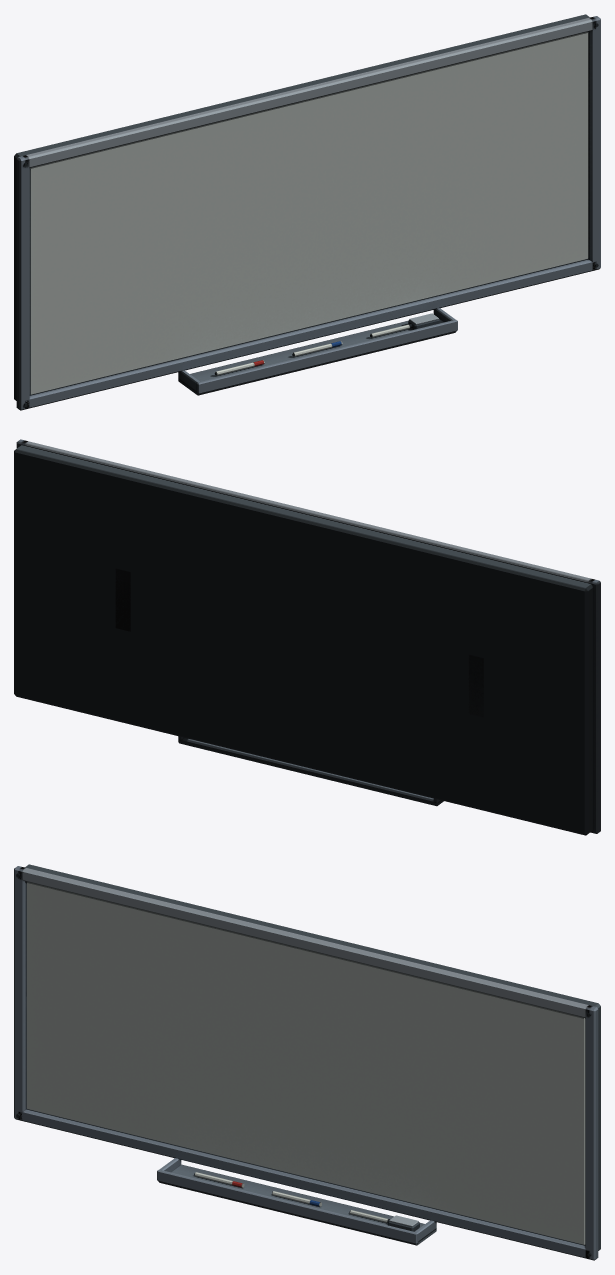
File: 0-20261016-1900-ev012-r02-collab-whiteboardwall_baked.glb
3 views of the same model, one above another, from view 1: azimuth 30°, elevation 25°; view 2: azimuth 150°, elevation 25°; view 3: azimuth 330°, elevation 25° (orthographic).
Parts seen in each view (by area): view 1: SW_Collab_WhiteboardWall; view 2: SW_Collab_WhiteboardWall; view 3: SW_Collab_WhiteboardWall.
Boxes of the visible parts, <box> form: SW_Collab_WhiteboardWall: <box>14,14,600,410</box>; SW_Collab_WhiteboardWall: <box>14,439,600,835</box>; SW_Collab_WhiteboardWall: <box>14,864,600,1260</box>.
Size of the model in its own units: 3 by 1.3 by 0.255.
1 material, 1 textured.
